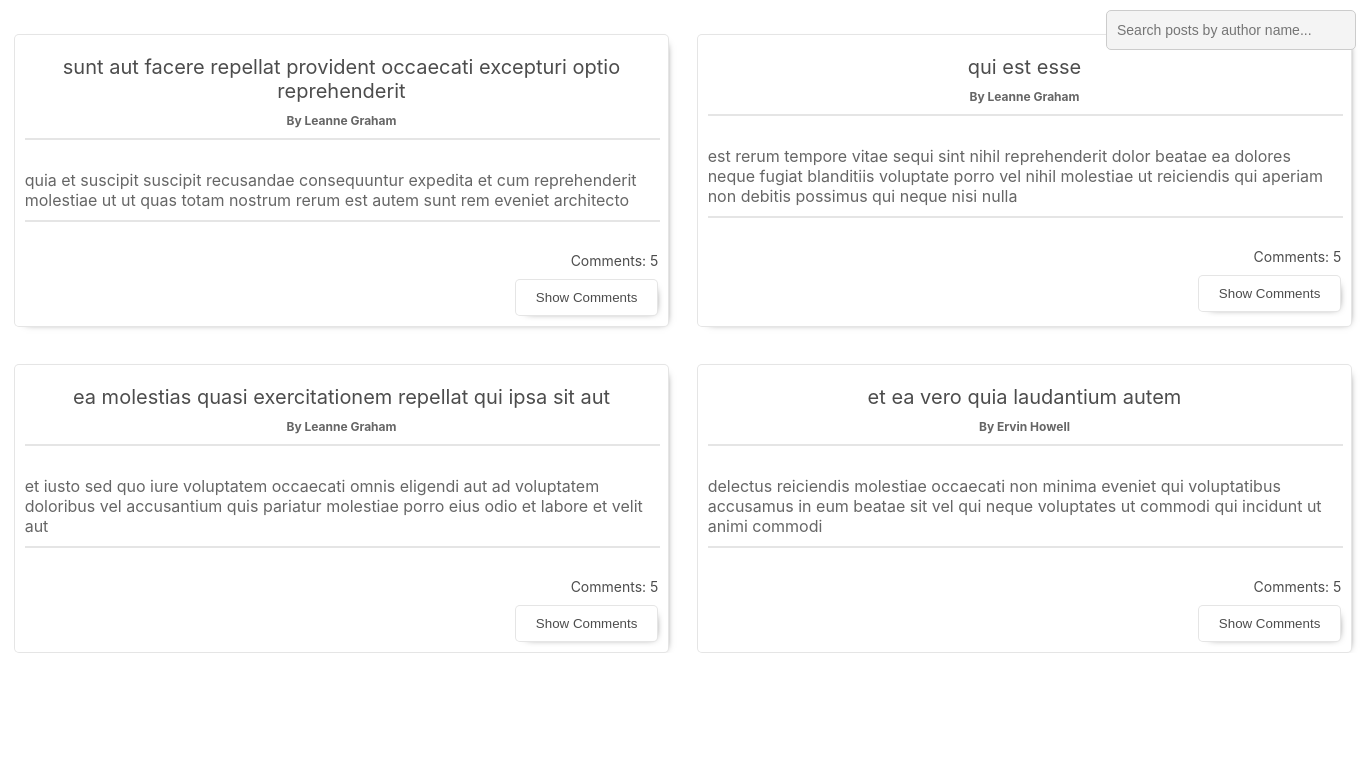
Scenario: Render Posts page › filters posts by author name when search term is provided
Check: the text "sunt aut facere repellat provident occaecati excepturi optio reprehenderit" is shown, box left=25, top=55, right=658, bottom=103
Check: the text "qui est esse" is shown, box left=968, top=55, right=1081, bottom=79
In the field with placeholder "Search posts by author name...": (1231, 30) left=1106, top=10, right=1356, bottom=50, type "Leanne Graham"
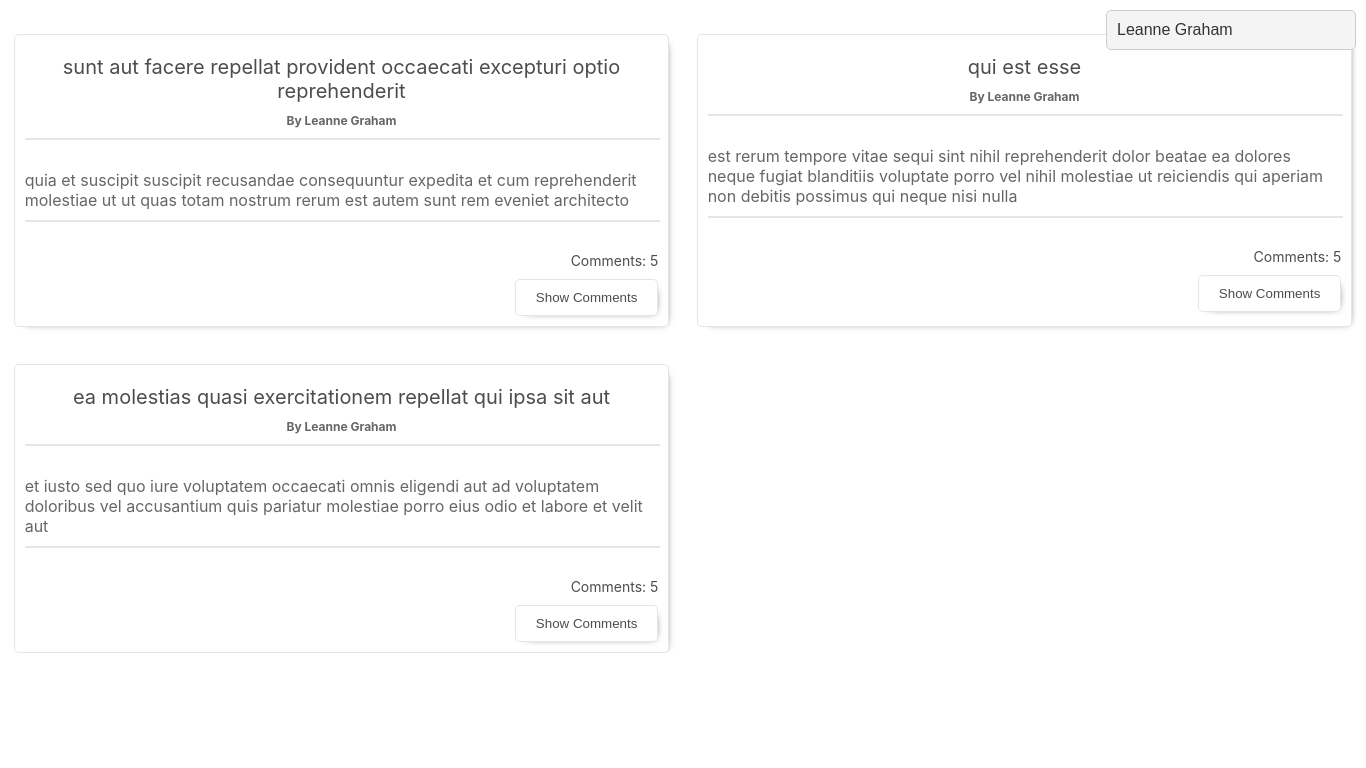
Check: the text "qui est esse" is shown, box left=968, top=55, right=1081, bottom=79
Check: the link "et ea vero quia laudantium autem" is gone
